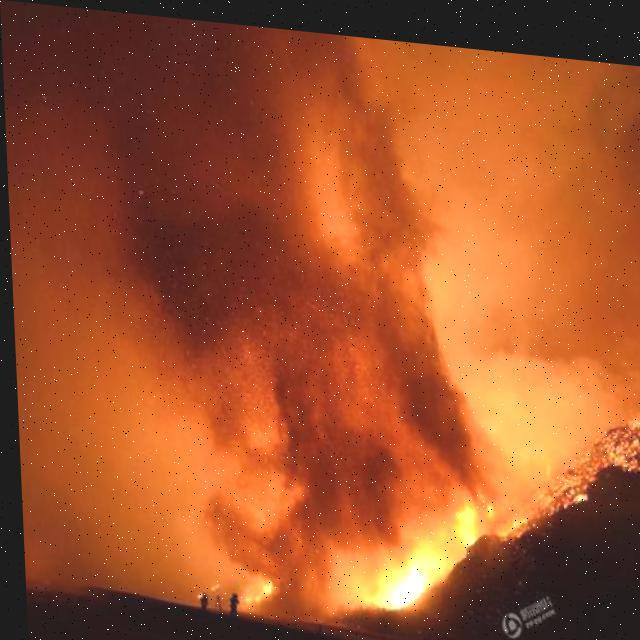Fire: (240, 450, 496, 631)
